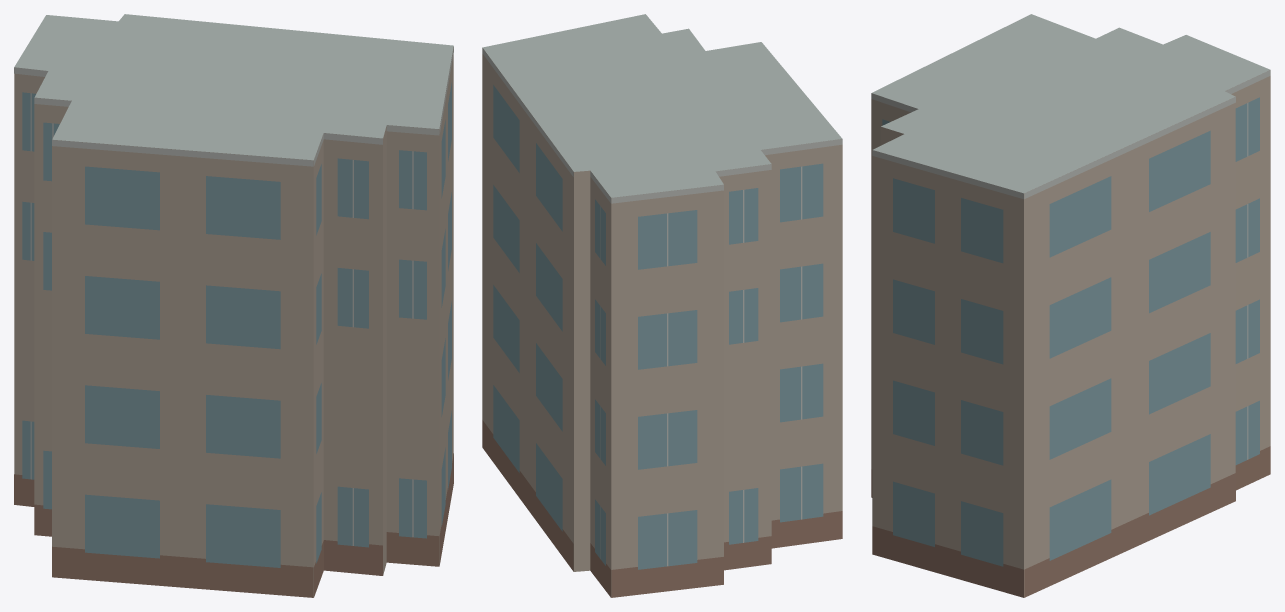
Rendered from survey-upis-32497141.glb.
3 renders of one model, left to right at view 1: azimuth 30°, elevation 25°; view 2: azimuth 150°, elevation 25°; view 3: azimuth 270°, elevation 25°, orthographic. The views are drawn at different scales.
Visible parts, largest first — view 1: survey-upis-32497141.tmp; view 2: survey-upis-32497141.tmp; view 3: survey-upis-32497141.tmp.
Part boxes in pixels (bbox=[...]): survey-upis-32497141.tmp: bbox=[14, 14, 453, 597]; survey-upis-32497141.tmp: bbox=[482, 14, 842, 597]; survey-upis-32497141.tmp: bbox=[871, 14, 1270, 597].
Bounding box in the file's own units: 15.9 × 16.7 × 14.95.
